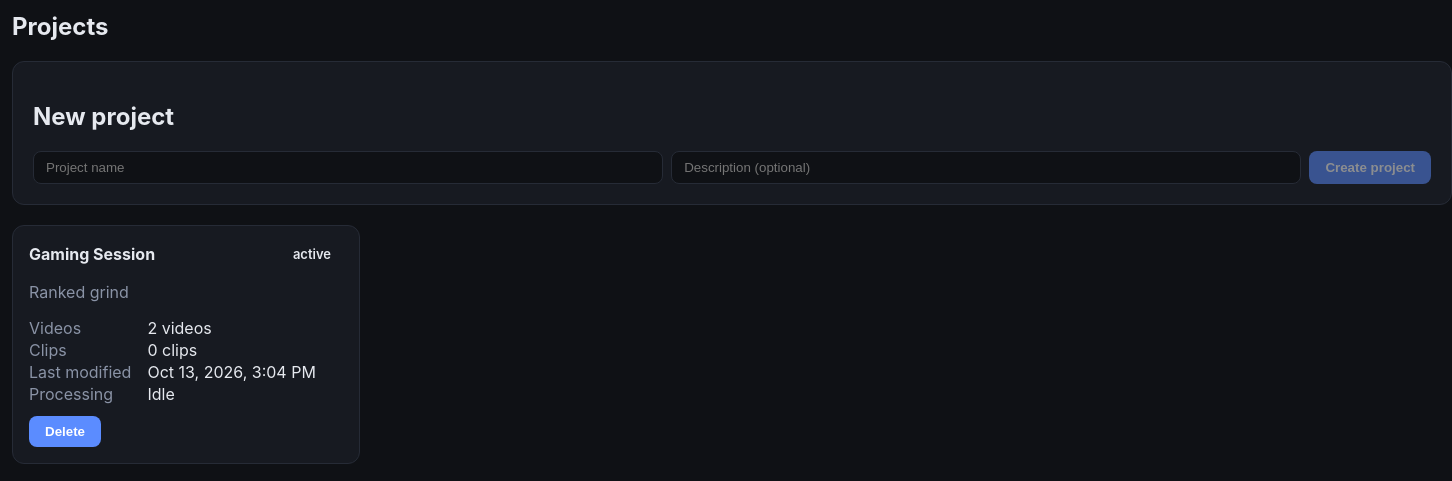
Projects page › deletes a project after inline confirmation
The width and height of the screenshot is (1452, 481).
Expected: the link "Gaming Session" is shown, [29, 244, 155, 264]
Click the button "Delete" at (65, 431), box [29, 416, 101, 447]
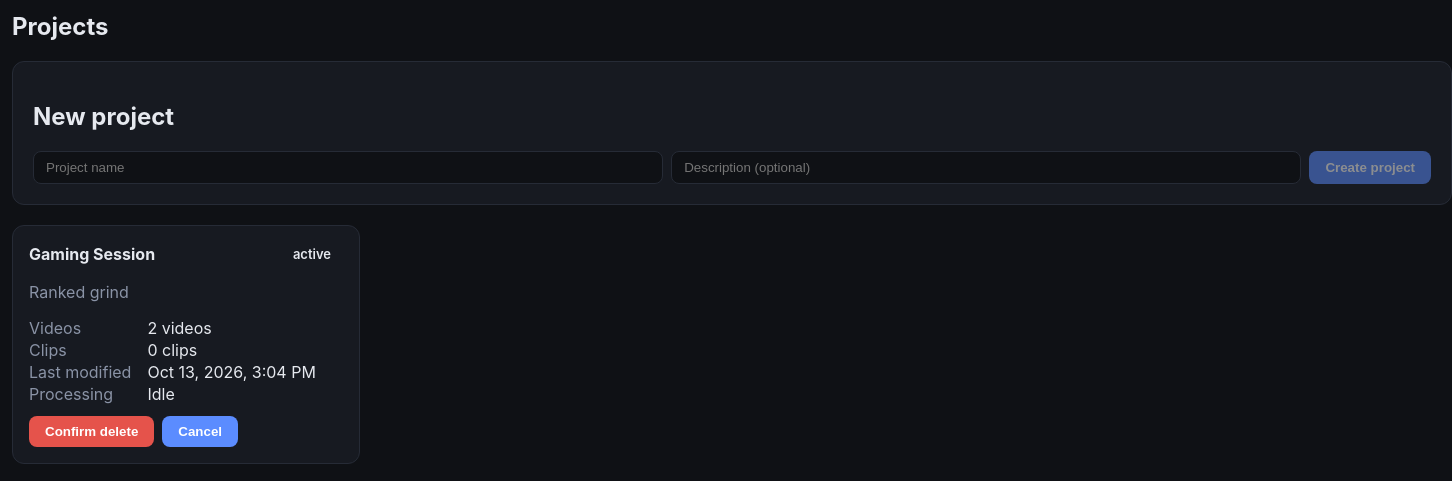
Click the button "Confirm delete" at (92, 431), box [29, 416, 154, 447]
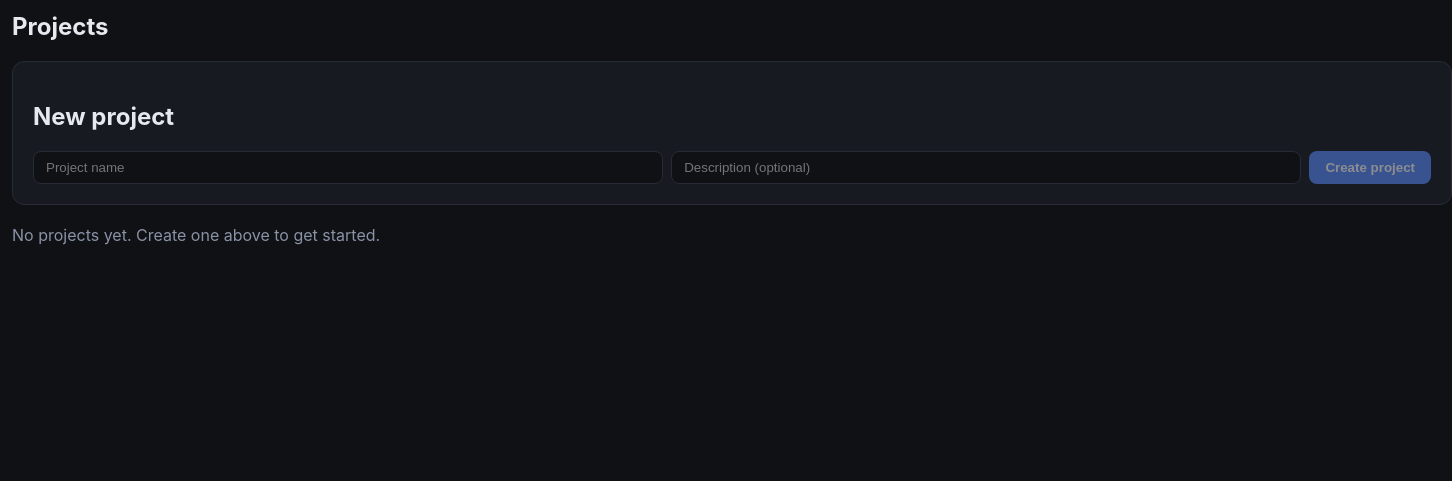
Expected: the link "Gaming Session" is gone
